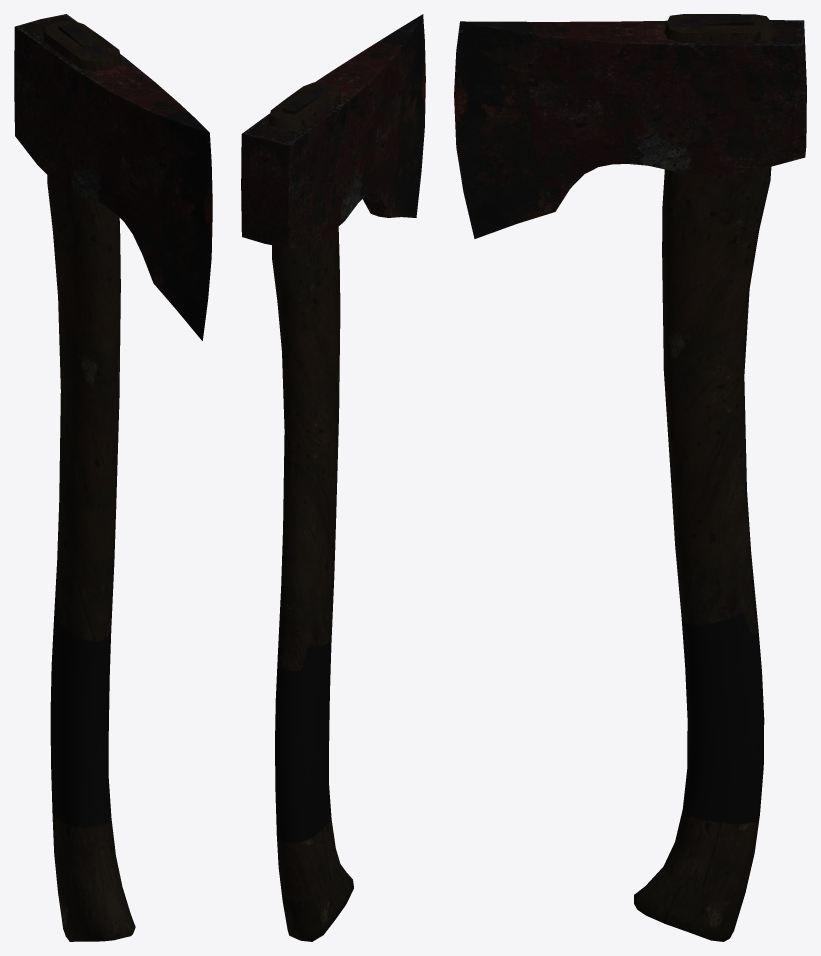
Rendered from w_hatchet.glb.
3 renders of one model, left to right at view 1: azimuth 30°, elevation 25°; view 2: azimuth 150°, elevation 25°; view 3: azimuth 270°, elevation 25°, orthographic. The views are drawn at different scales.
Parts seen in each view (by area): view 1: Hatchet_Mesh; view 2: Hatchet_Mesh; view 3: Hatchet_Mesh.
Part boxes in pixels (bbox=[...]): Hatchet_Mesh: bbox=[14, 14, 212, 941]; Hatchet_Mesh: bbox=[241, 14, 425, 941]; Hatchet_Mesh: bbox=[454, 14, 806, 941].
Size of the model in its own units: 0.0681 by 1.13 by 0.395.
1 material, 1 textured.
